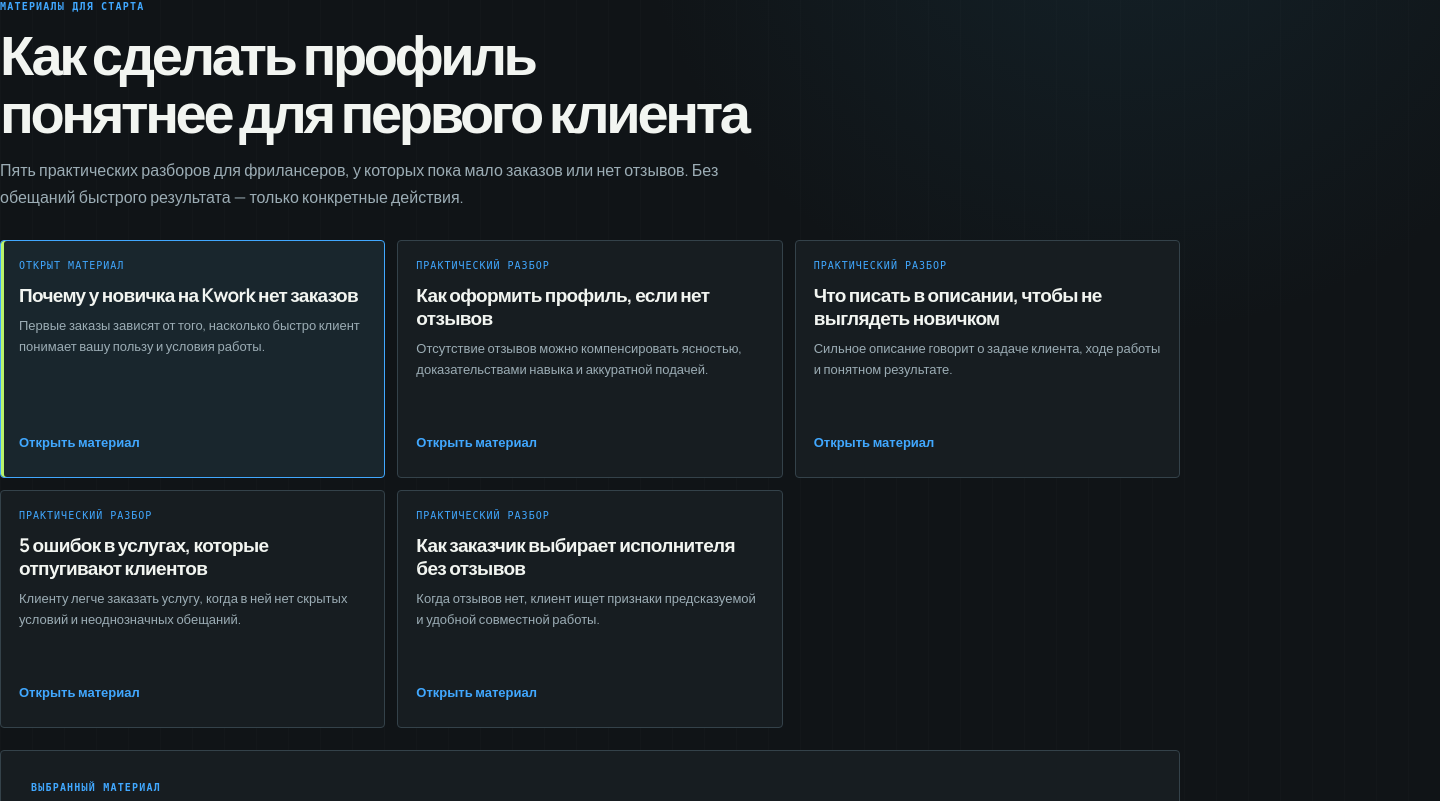
Test: NewcomersPage › renders five guide cards and opens a selected guide
This screenshot has width=1440, height=801.
Step 1. Click the button "Открыть материал" below "Как оформить профиль, если нет отзывов" → (477,442), box [416, 425, 537, 459]
(page scrolled)
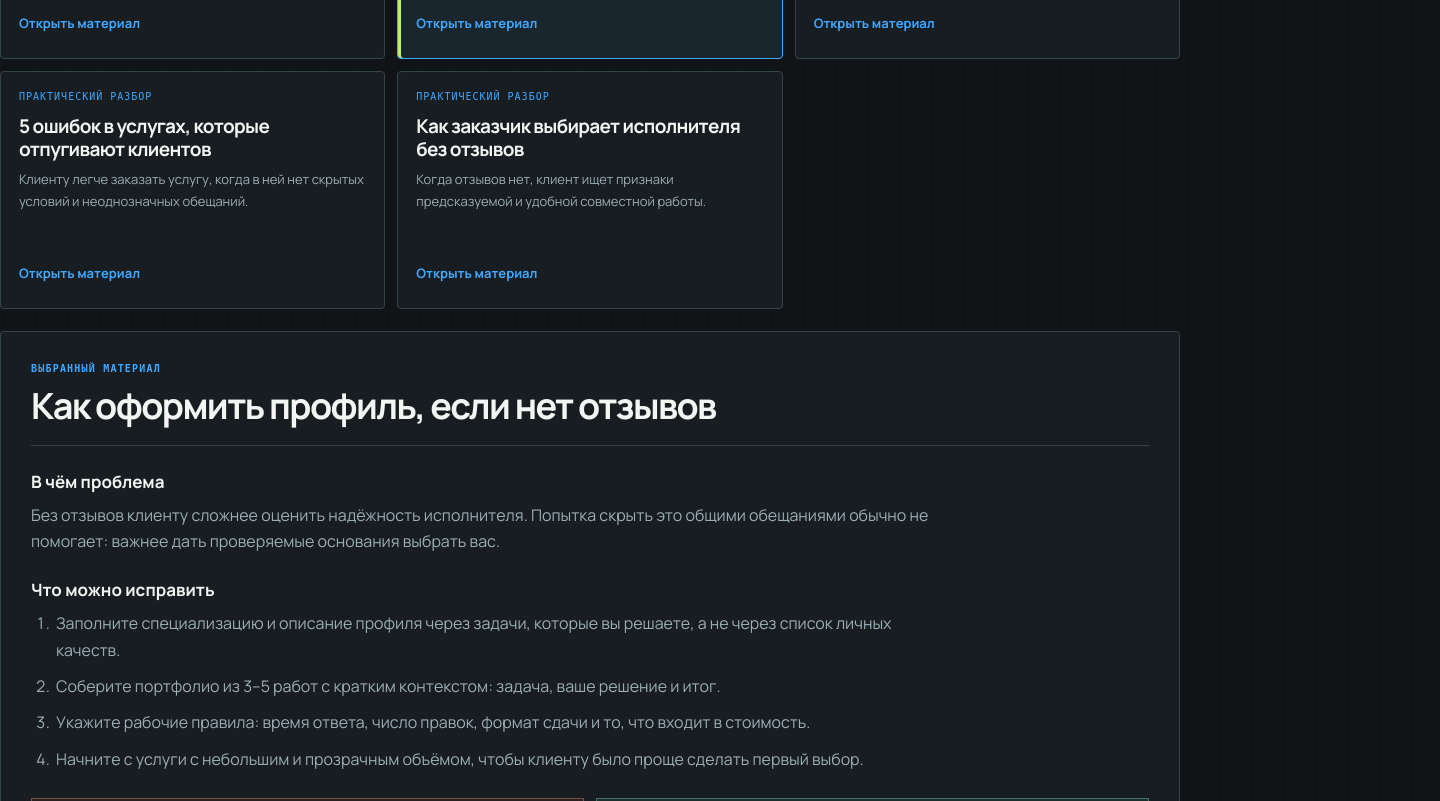
Check: the heading "Как оформить профиль, если нет отзывов" is shown, box [31, 382, 716, 430]
